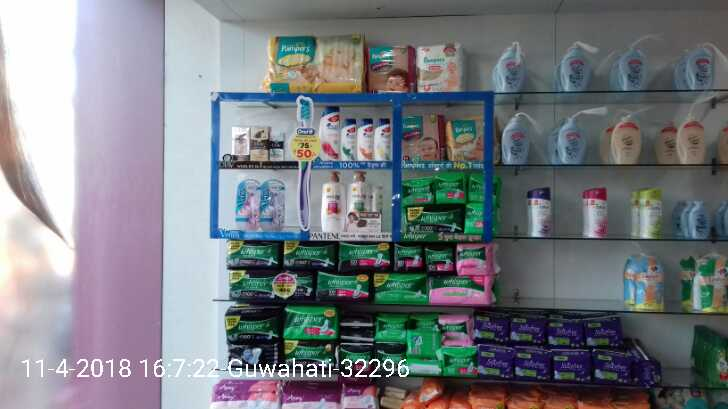venus: (260, 178, 285, 230), (235, 179, 259, 231)
